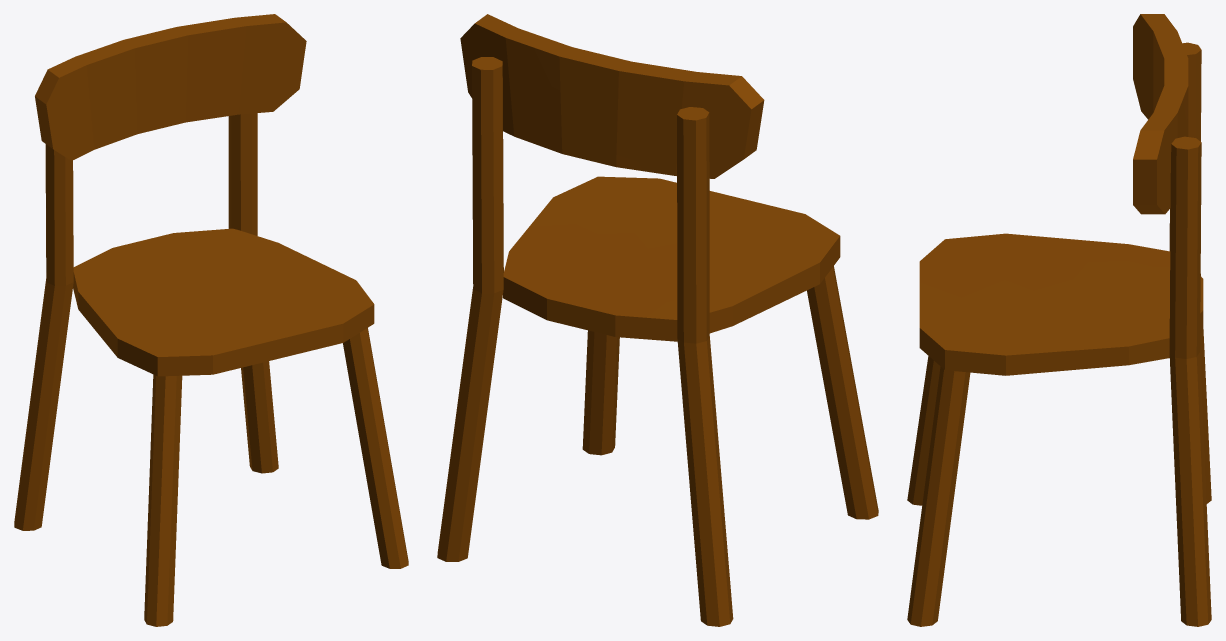
The model's file is stuhl farbe risse origin.fbx.
The picture shows the model from 3 angles, left to right: view 1: azimuth 30°, elevation 25°; view 2: azimuth 150°, elevation 25°; view 3: azimuth 270°, elevation 25°; orthographic projection. The views are drawn at different scales.
Parts seen in each view (by area): view 1: sthul.007, sthul.006, sthul, sthul.009, sthul.011, sthul.001, sthul.002, sthul.003, sthul.005, sthul.004, sthul.010; view 2: sthul.007, sthul.009, sthul.006, sthul, sthul.002, sthul.004, sthul.001, sthul.011, sthul.005, sthul.010, sthul.003; view 3: sthul.009, sthul.011, sthul.006, sthul.004, sthul.003, sthul, sthul.007, sthul.010, sthul.001, sthul.002.
Part boxes in pixels (x1,y1,x2,y2): sthul.007: (35,22,212,172); sthul.006: (73,257,264,388); sthul: (125,14,306,138); sthul.009: (94,228,313,301); sthul.011: (210,260,374,365); sthul.001: (144,381,181,626); sthul.002: (14,288,71,530); sthul.003: (343,331,408,568); sthul.005: (45,164,73,299); sthul.004: (241,361,278,473); sthul.010: (228,121,257,235); sthul.007: (533,39,764,218); sthul.009: (503,223,711,338); sthul.006: (638,202,840,341); sthul: (460,14,642,170); sthul.002: (679,347,733,626); sthul.004: (437,299,500,561); sthul.001: (807,267,878,519); sthul.011: (529,176,757,248); sthul.005: (677,209,710,356); sthul.010: (471,158,503,309); sthul.003: (582,330,619,455); sthul.009: (1034,261,1203,370); sthul.011: (919,280,1071,377); sthul.006: (919,233,1170,297); sthul.004: (1170,367,1211,626); sthul.003: (907,372,969,626); sthul: (1133,97,1201,246); sthul.007: (1133,14,1201,141); sthul.010: (1169,233,1200,374); sthul.001: (907,356,940,505); sthul.002: (1200,274,1211,503).
Size of the model in its own units: 159 by 271 by 153.
